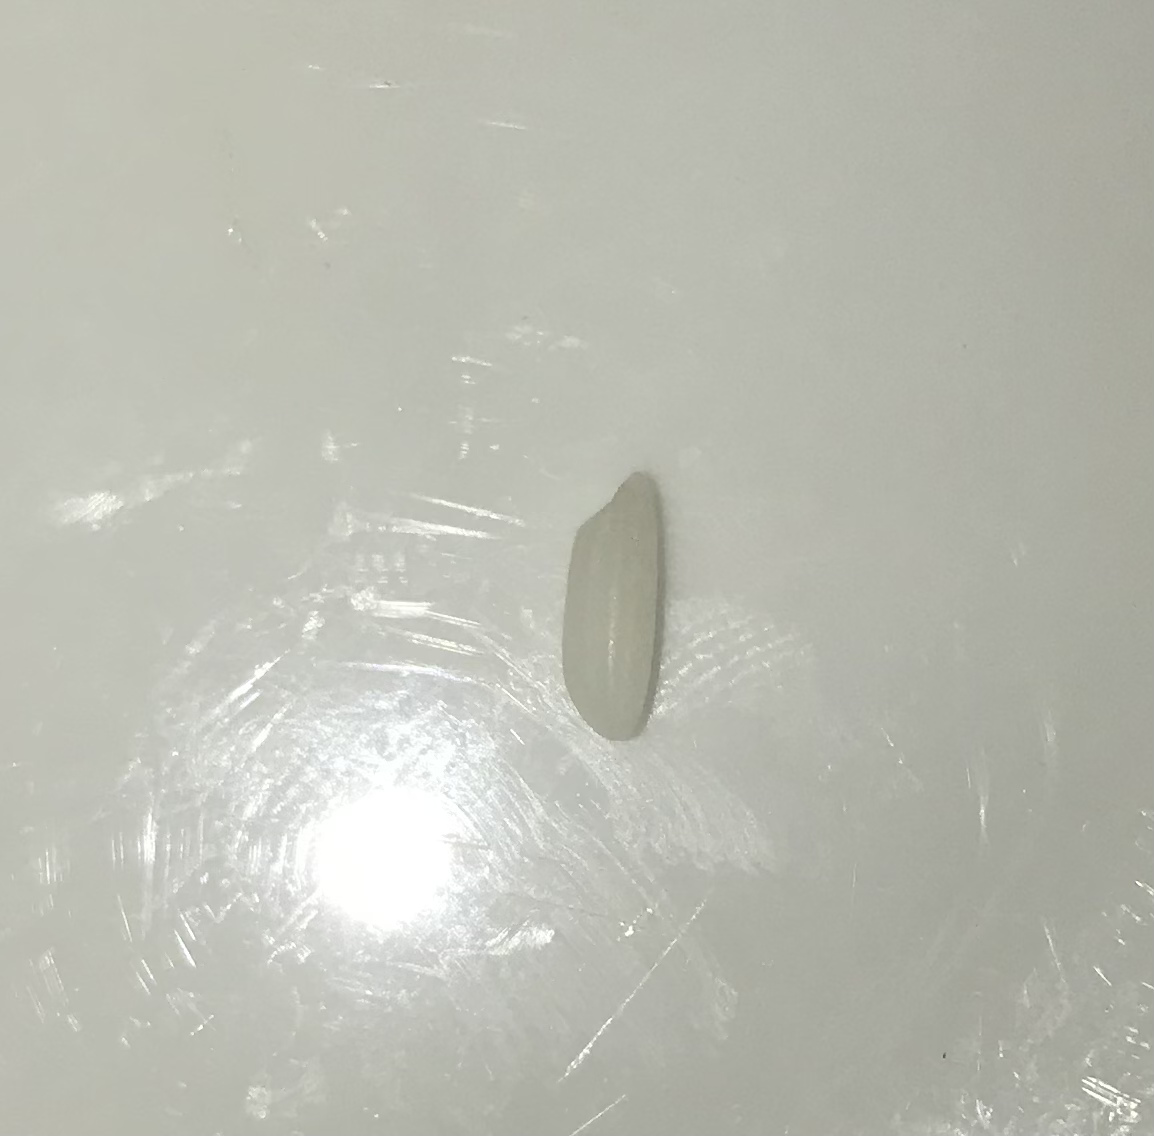Gao Lai Sua: (555, 462, 676, 748)
